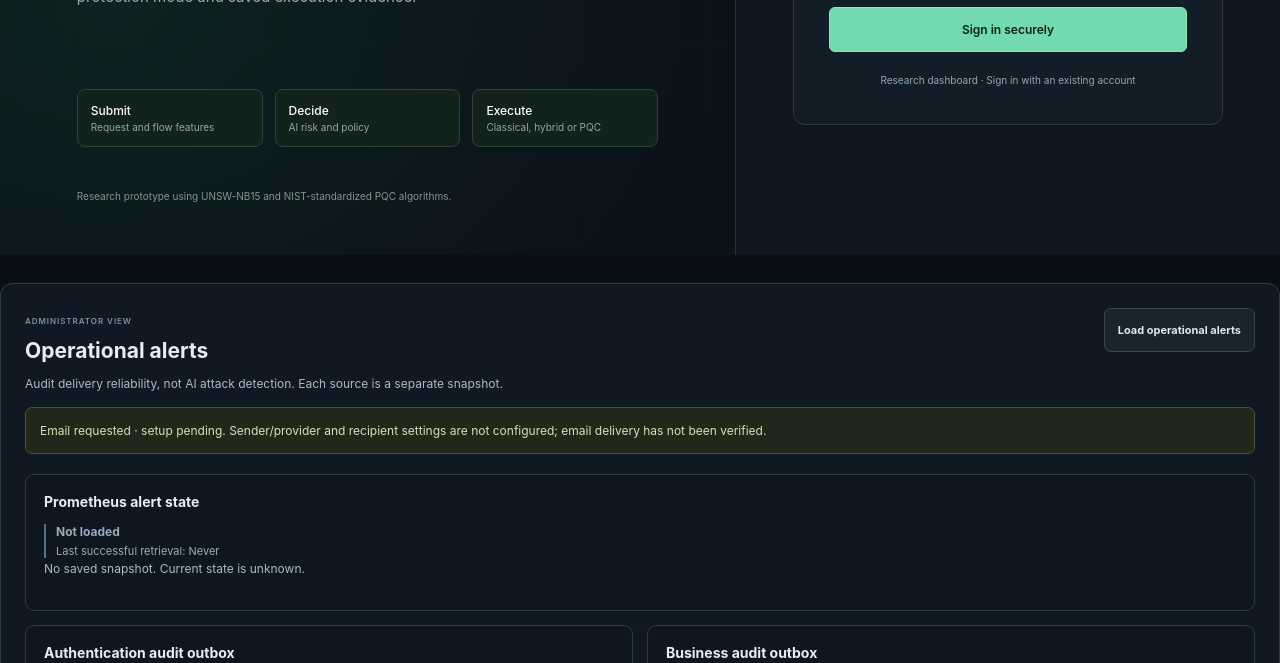
Test: Operational snapshot access/session boundaries › allows a fresh load after403 while ignored old successes cannot repopulate it
(page scrolled)
Click the button "Load operational alerts" at (1179, 330), box [1104,308,1255,352]
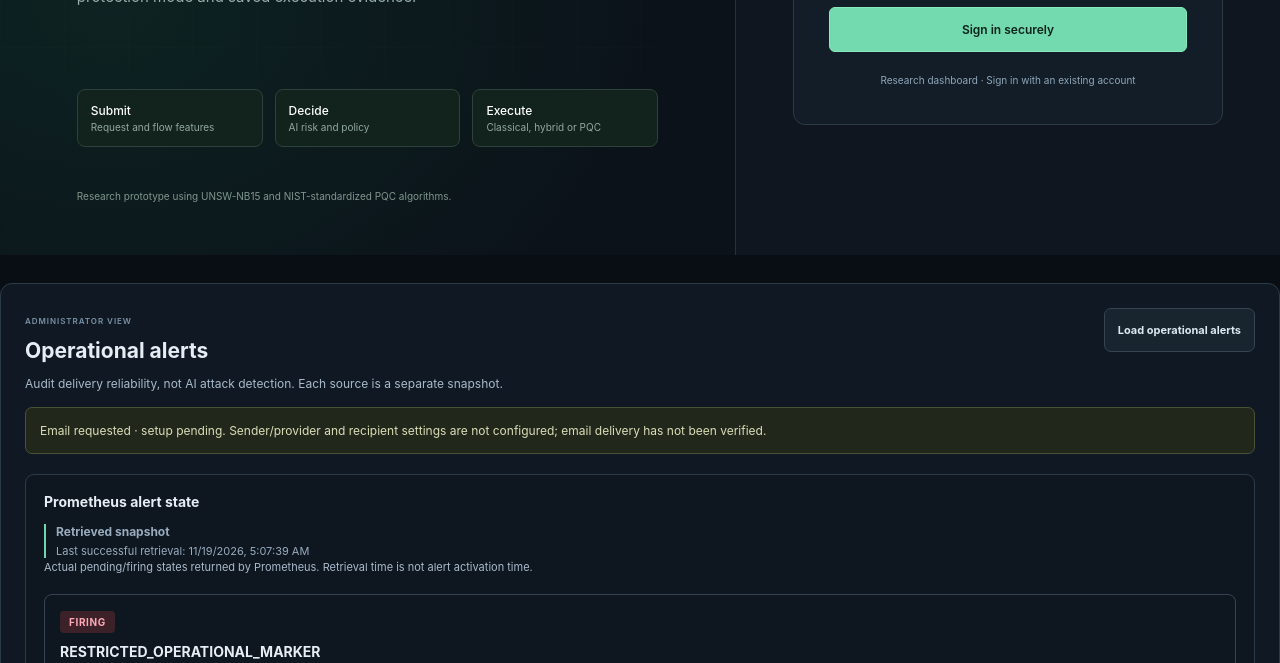
Now the heading "RESTRICTED_OPERATIONAL_MARKER" is shown, box [60,643,321,660]
Click the button "Load operational alerts" at (1179, 330), box [1104,308,1255,352]
(page scrolled)
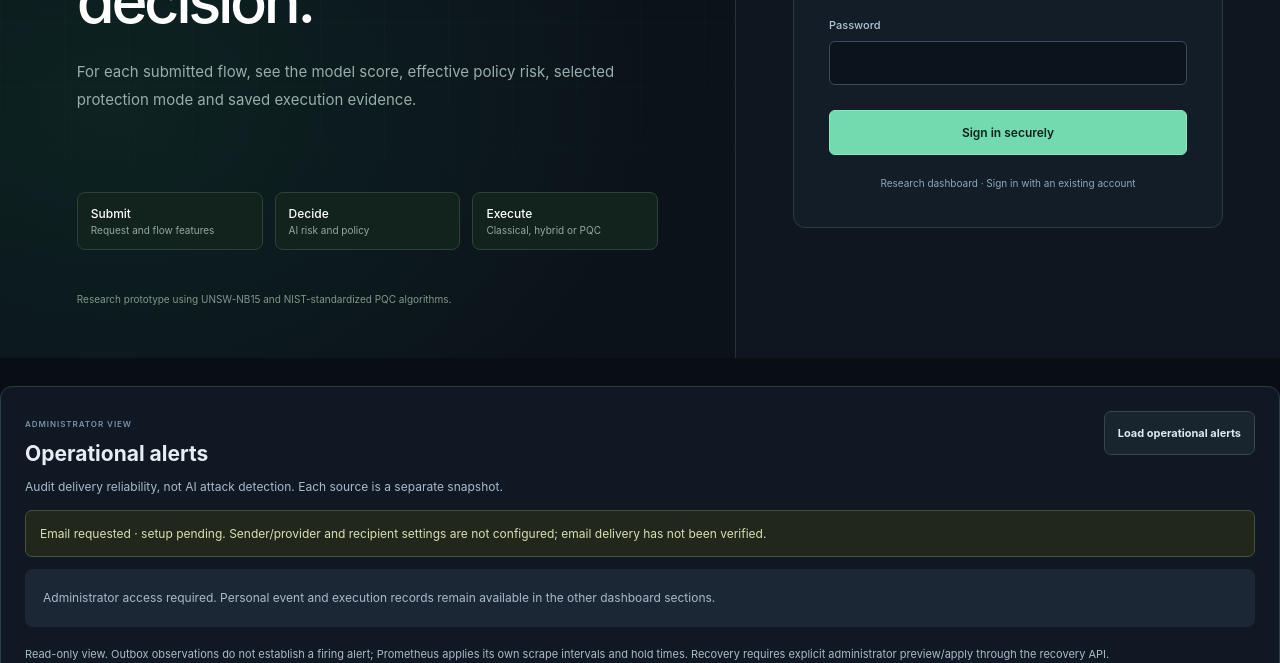
Now the text "Administrator access required" is shown, box [43,590,715,605]
Click the button "Load operational alerts" at (1179, 433), box [1104,411,1255,455]
(page scrolled)
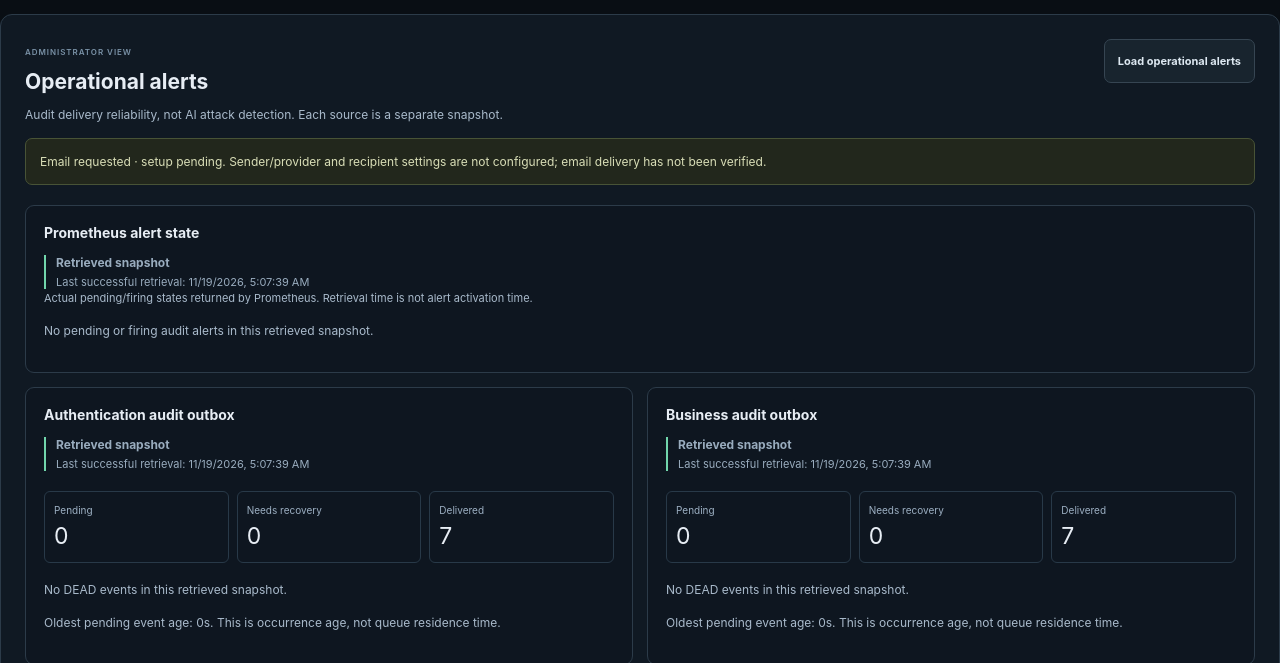
Now the text "No pending or firing audit alerts in this retrieved snapshot." is shown, box [44,323,374,338]
Now the text "Administrator access required" is gone
Now the text "Retrieved snapshot" is shown 3 times, box [56,255,170,270]; [56,437,170,452]; [678,437,792,452]
